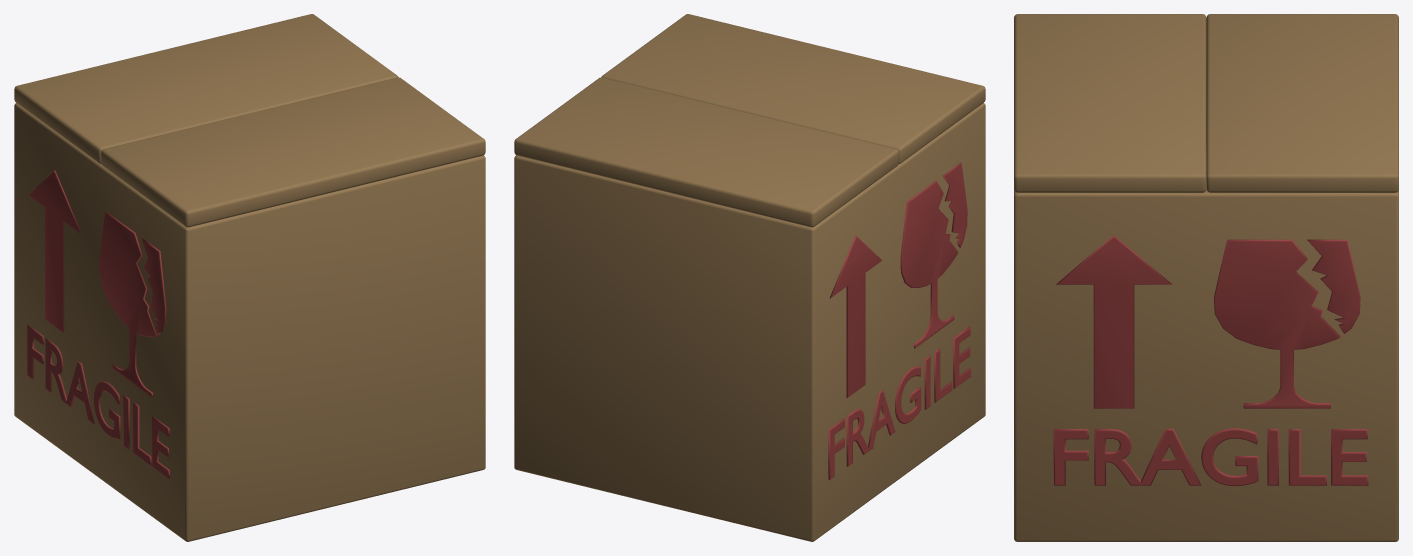
3 views of the same model, side by side, from view 1: azimuth 30°, elevation 25°; view 2: azimuth 150°, elevation 25°; view 3: azimuth 270°, elevation 25° (orthographic). The views are drawn at different scales.
Parts seen in each view (by area): view 1: body, Lid_Left, Lid_Right; view 2: body, Lid_Right, Lid_Left; view 3: body, Lid_Left, Lid_Right.
Part boxes in pixels (box(x1,y1,x2,y2)): body: box(14, 103, 485, 541); Lid_Left: box(101, 77, 485, 227); Lid_Right: box(14, 14, 398, 163); body: box(514, 103, 985, 541); Lid_Right: box(514, 77, 898, 227); Lid_Left: box(601, 14, 985, 163); body: box(1014, 154, 1398, 541); Lid_Left: box(1014, 14, 1206, 192); Lid_Right: box(1206, 14, 1398, 192).
Size of the model in its own units: 50.52 by 52.68 by 50.
